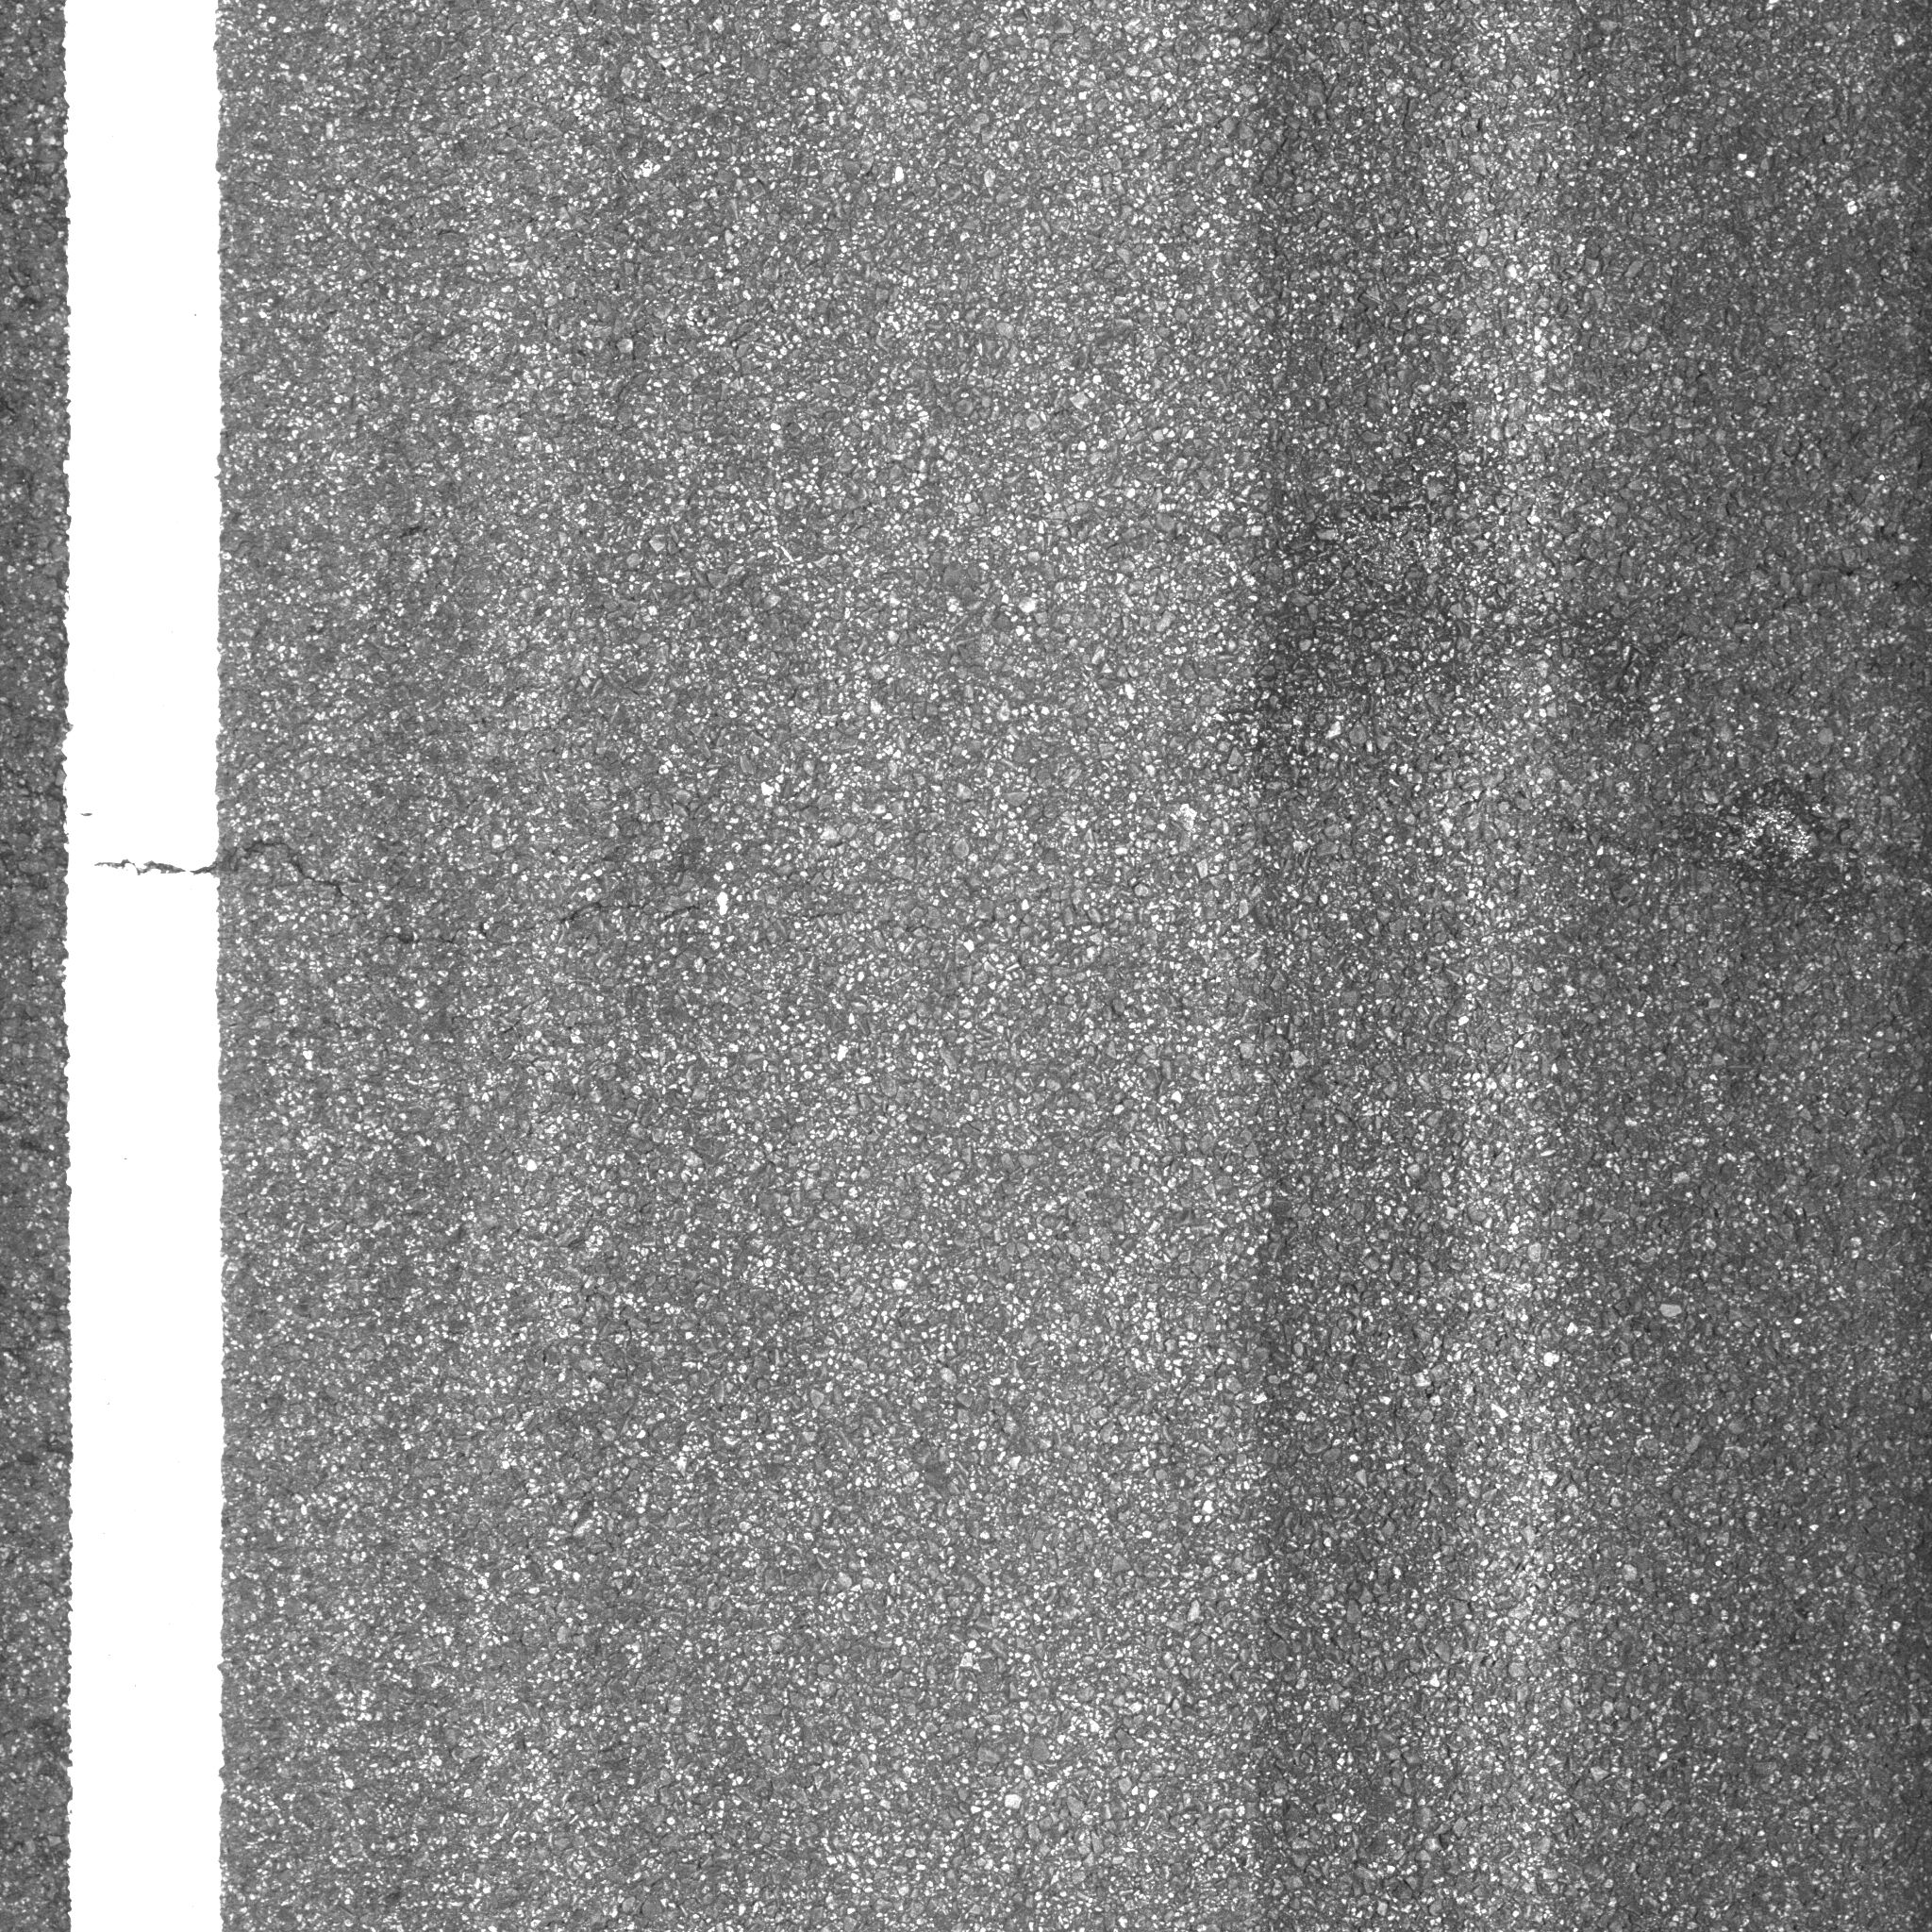transeverse: (74, 809, 897, 978), (1589, 540, 1932, 671)
